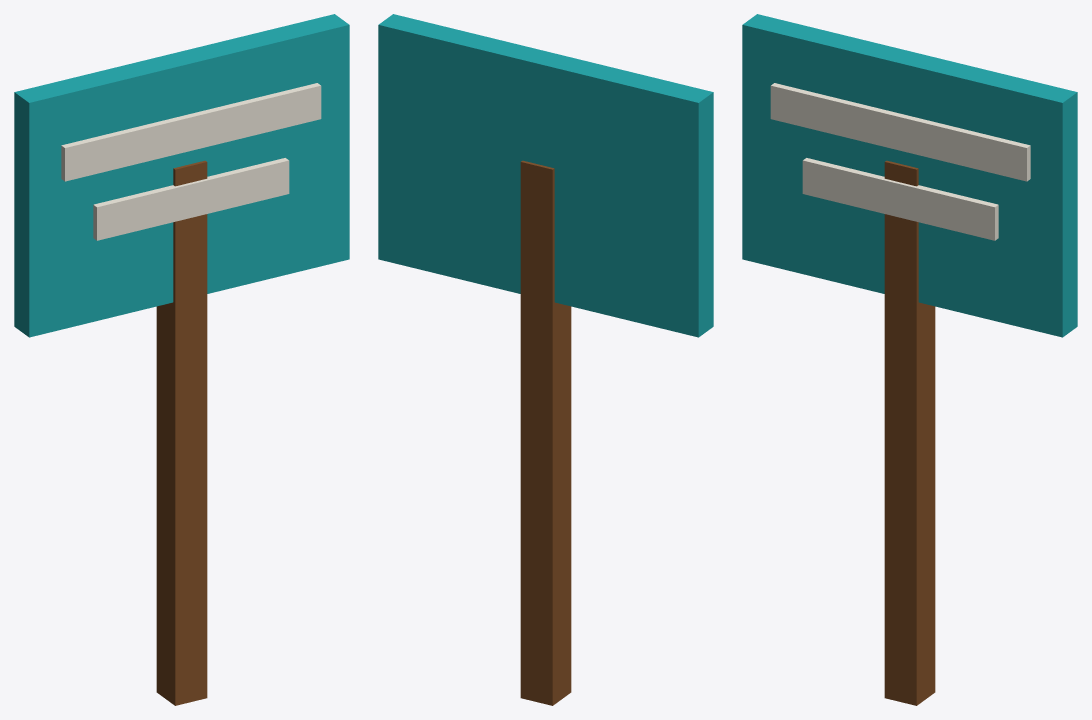
The model's file is zoo_info_sign.glb.
3 renders of one model, left to right at view 1: azimuth 30°, elevation 25°; view 2: azimuth 150°, elevation 25°; view 3: azimuth 330°, elevation 25°, orthographic.
Parts seen in each view (by area): view 1: zoo_info_sign; view 2: zoo_info_sign; view 3: zoo_info_sign.
Boxes of the visible parts, x1,y1,x2,y2 form: zoo_info_sign: (14, 14, 349, 705); zoo_info_sign: (378, 14, 713, 705); zoo_info_sign: (742, 14, 1077, 705).
Size of the model in its own units: 1 by 1.9 by 0.11.
